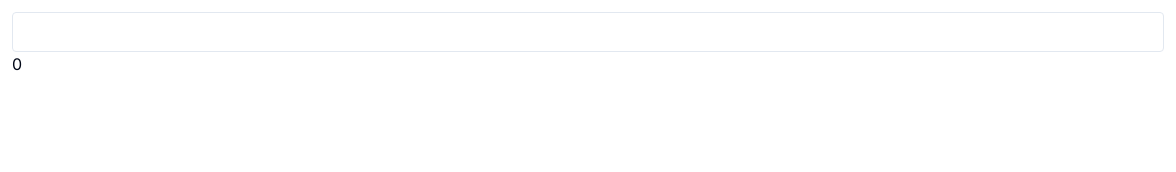
Scenario: CurrencyInput › digitação (máscara em tempo real) › ignora caracteres não numéricos ao digitar
Click the field. click: (588,32)
box: [12,12,1164,52]
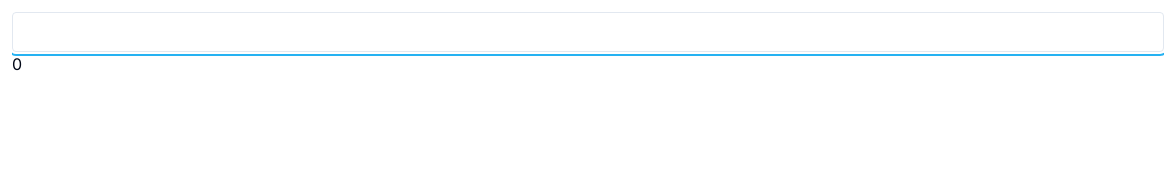
Type keys "abc12"
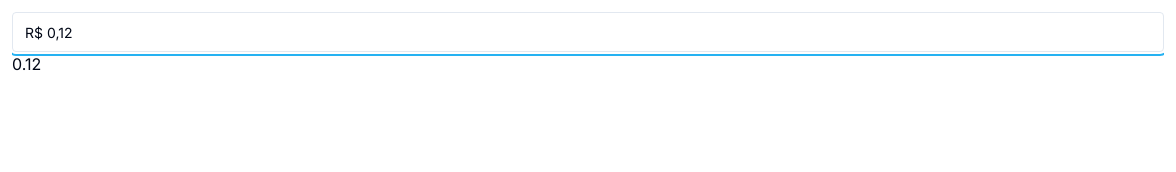
Result: the text with test id "raw" reads "0.12" at [12,54,41,74]
